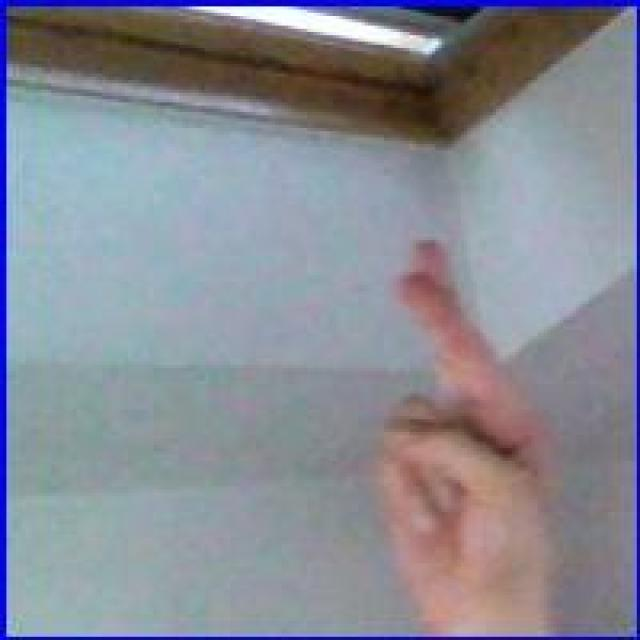R: (371, 228, 557, 630)
